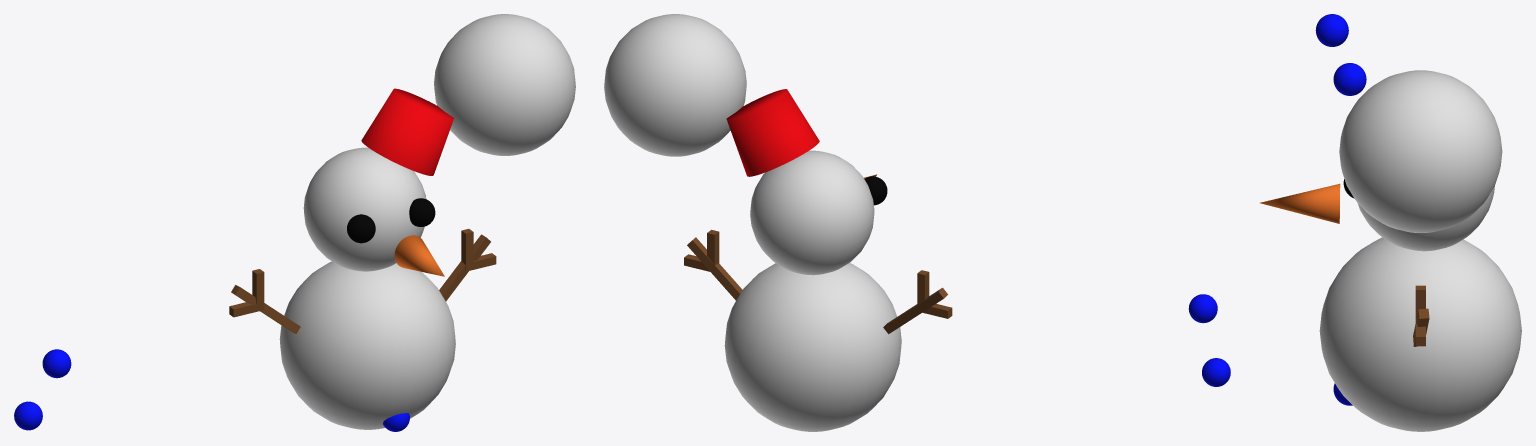
3 views of the same model, side by side, from view 1: azimuth 30°, elevation 25°; view 2: azimuth 150°, elevation 25°; view 3: azimuth 270°, elevation 25° (orthographic). The views are drawn at different scales.
Visible parts, largest first — view 1: 球, 球.001, 球.008, 円柱, 立方体.004, 立方体, 円錐, 球.002, 球.004, 球.005, 球.003; view 2: 球, 球.001, 球.008, 円柱, 立方体.004, 立方体, 球.005, 球.004; view 3: 球, 球.001, 球.008, 円錐, 球.004, 球.005, 立方体.004.
Boxes of the visible parts, x1,y1,x2,y2 form: 球: [279, 261, 455, 429]; 球.001: [434, 14, 575, 155]; 球.008: [303, 147, 426, 271]; 円柱: [361, 88, 453, 175]; 立方体.004: [439, 229, 496, 301]; 立方体: [229, 269, 300, 333]; 円錐: [394, 235, 444, 276]; 球.002: [347, 214, 375, 243]; 球.004: [14, 401, 42, 430]; 球.005: [42, 349, 71, 378]; 球.003: [409, 198, 435, 226]; 球: [724, 262, 901, 431]; 球.001: [604, 14, 746, 156]; 球.008: [750, 150, 874, 275]; 円柱: [726, 89, 819, 176]; 立方体.004: [684, 229, 742, 300]; 立方体: [883, 270, 952, 334]; 球.005: [1188, 294, 1217, 323]; 球.004: [1202, 358, 1230, 386]; 球: [1319, 237, 1521, 431]; 球.001: [1339, 70, 1502, 232]; 球.008: [1358, 186, 1494, 251]; 円錐: [1260, 183, 1340, 223]; 球.004: [1333, 63, 1366, 95]; 球.005: [1315, 14, 1348, 46]; 立方体.004: [1413, 285, 1429, 346].
Size of the model in its own units: 7.61 by 4.6 by 2.6.
